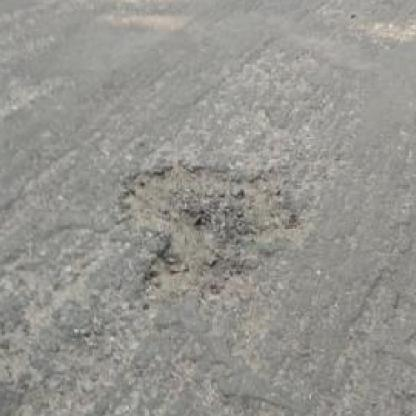pothole: (116, 154, 299, 307)
